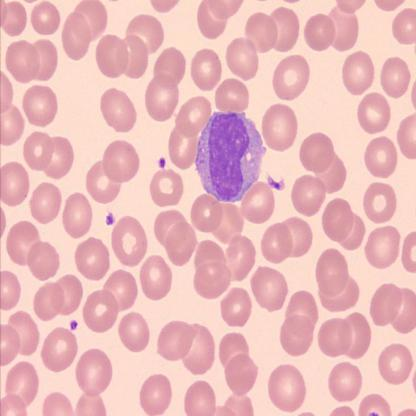Monocyte: (193, 107, 268, 206)
